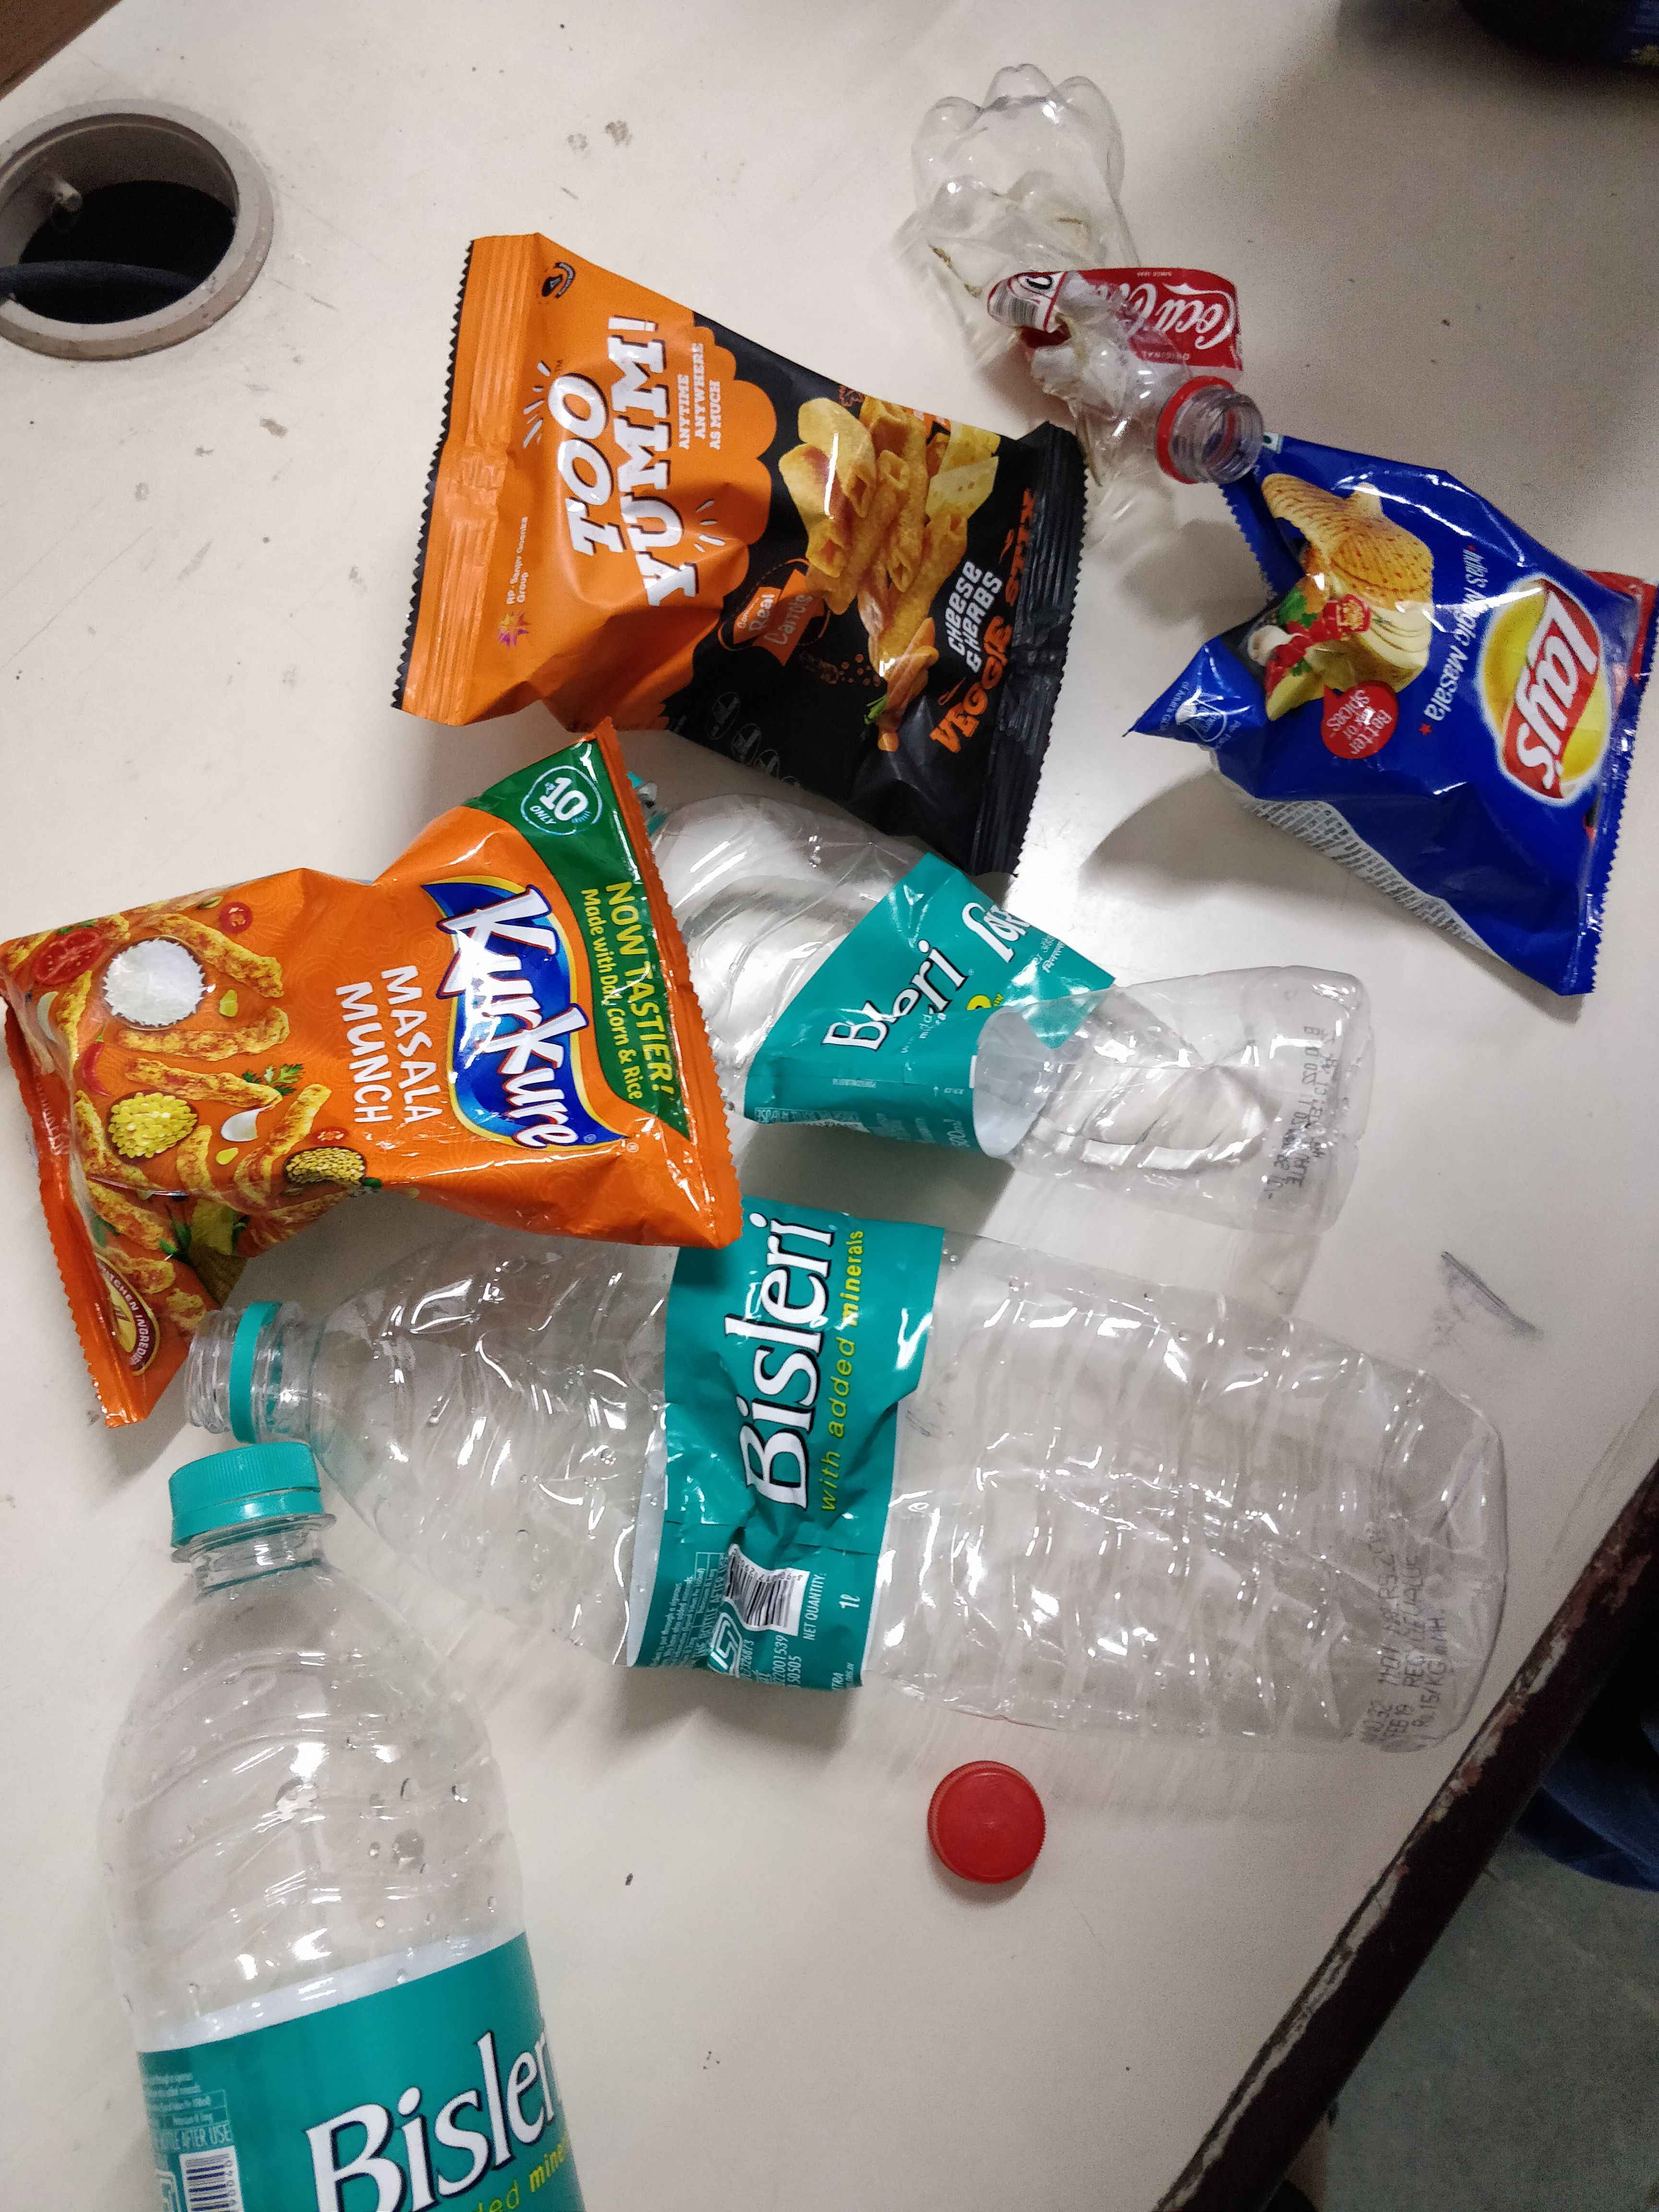Bisleri: (247, 2019, 579, 2202), (727, 1204, 880, 1543), (826, 928, 992, 1104)
Coca-Cola: (1100, 270, 1251, 373)
Lays: (1467, 552, 1615, 836)
kurkure: (425, 867, 631, 1179)
tooyumm: (521, 315, 734, 617)
